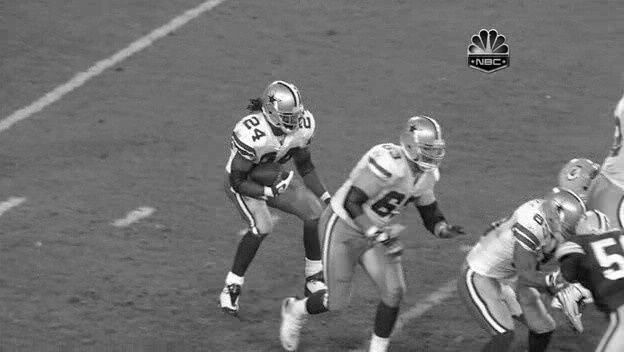person: (267, 83, 303, 129), (266, 83, 302, 129), (268, 83, 304, 129), (267, 82, 303, 128), (267, 84, 303, 130)
target_negative: (7, 36, 304, 285), (80, 221, 447, 277), (317, 75, 359, 281), (37, 124, 125, 170), (99, 210, 170, 217), (431, 338, 588, 339)
